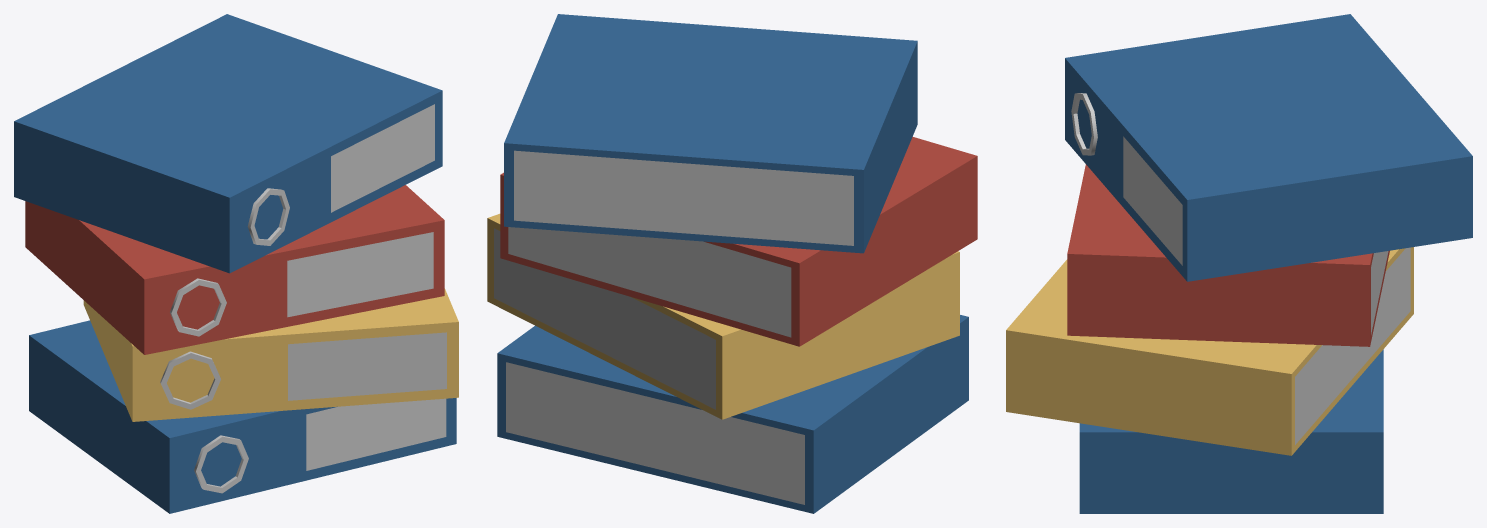
The model's file is file books.FBX.
The picture shows the model from 3 angles, left to right: view 1: azimuth 30°, elevation 25°; view 2: azimuth 150°, elevation 25°; view 3: azimuth 270°, elevation 25°; orthographic projection. The views are drawn at different scales.
Visible parts, largest first — view 1: file books; view 2: file books; view 3: file books.
Part boxes in pixels (bbox=[...]): file books: bbox=[14, 14, 458, 513]; file books: bbox=[487, 14, 977, 513]; file books: bbox=[1006, 14, 1472, 513].
Size of the model in its own units: 34.29 by 27.39 by 34.82.
1 material, 1 textured.
